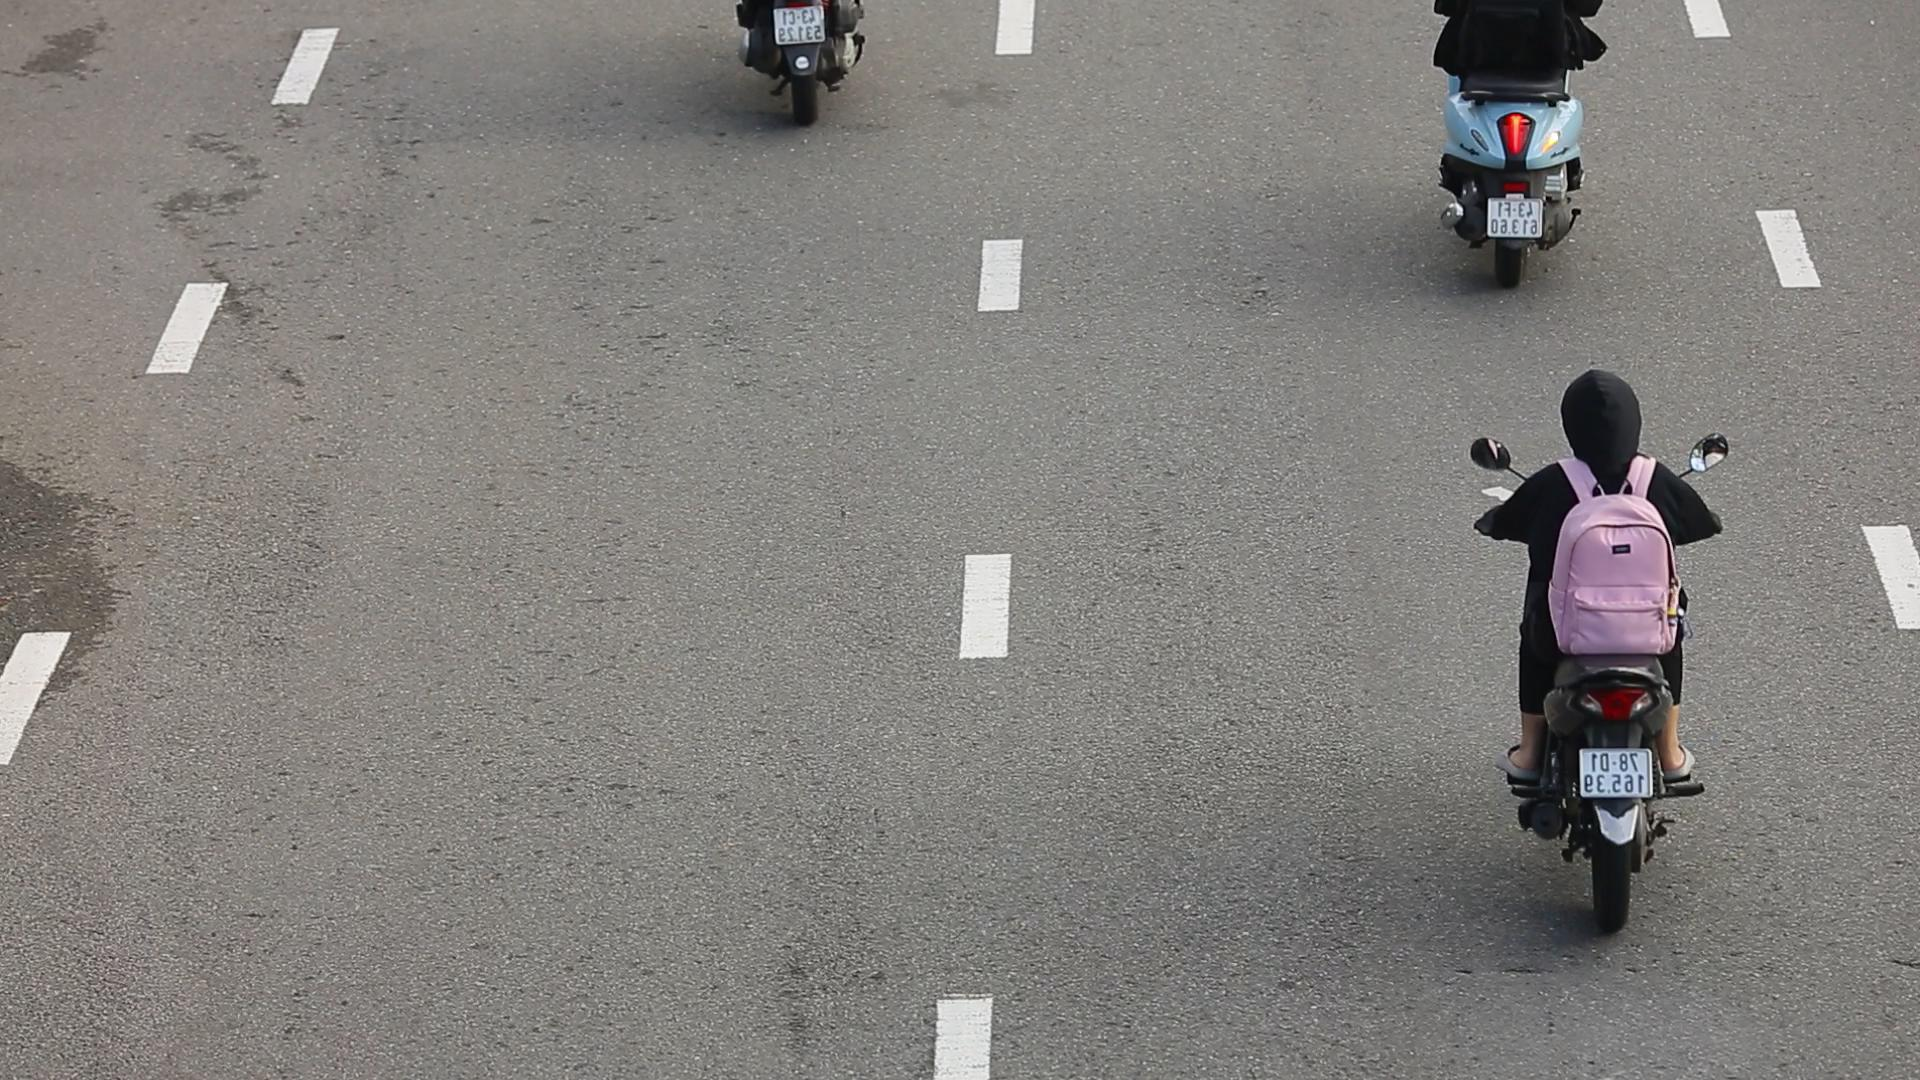motobike: (1465, 360, 1727, 932)
